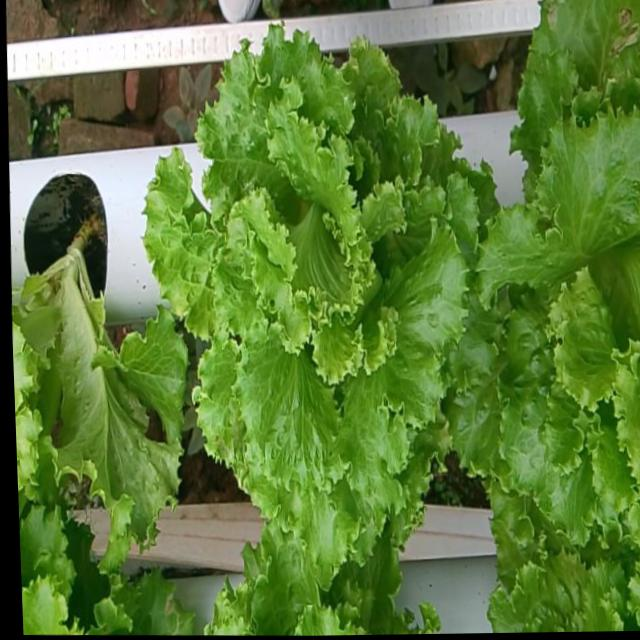Mature: (150, 15, 485, 555), (454, 93, 640, 535)
